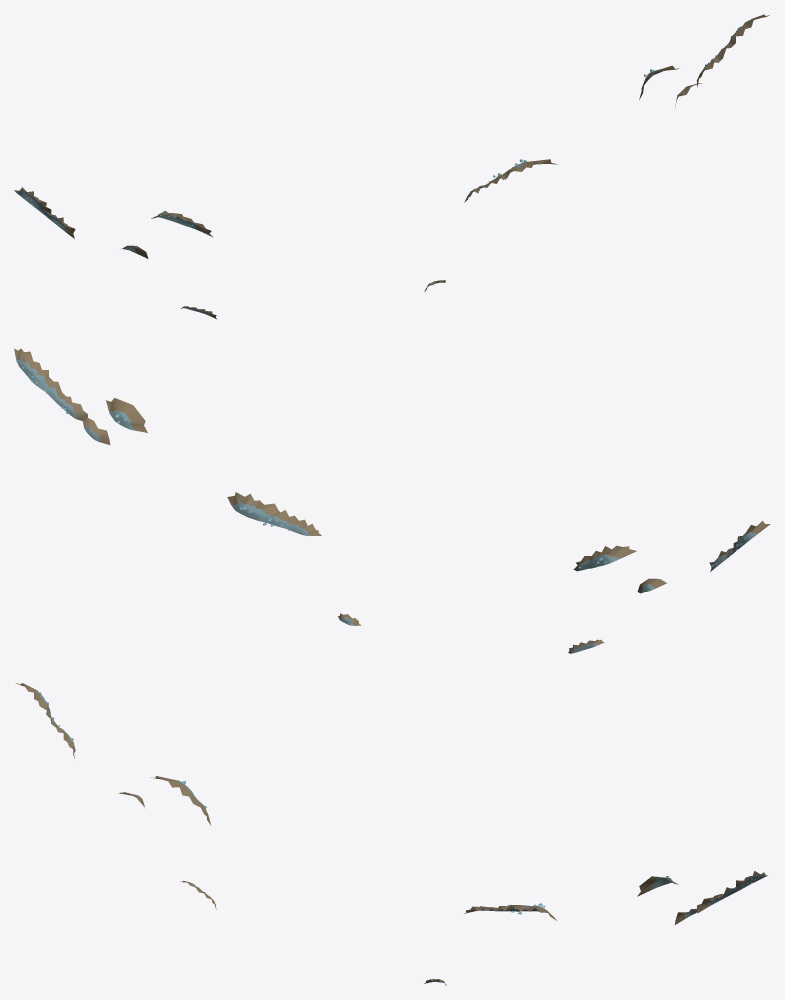
Rendered from distant-view-00.glb.
3 renders of one model, top to bottom at view 1: azimuth 30°, elevation 25°; view 2: azimuth 150°, elevation 25°; view 3: azimuth 330°, elevation 25°, orthographic.
Parts seen in each view (by area): view 1: FldDistantView00_node1; view 2: FldDistantView00_node1; view 3: FldDistantView00_node1.
Boxes of the visible parts, x1,y1,x2,y2 form: FldDistantView00_node1: (14,14,769,319); FldDistantView00_node1: (14,348,770,653); FldDistantView00_node1: (15,682,767,985).
Size of the model in its own units: 64.82 by 16.63 by 1.84.
1 material, 1 textured.
